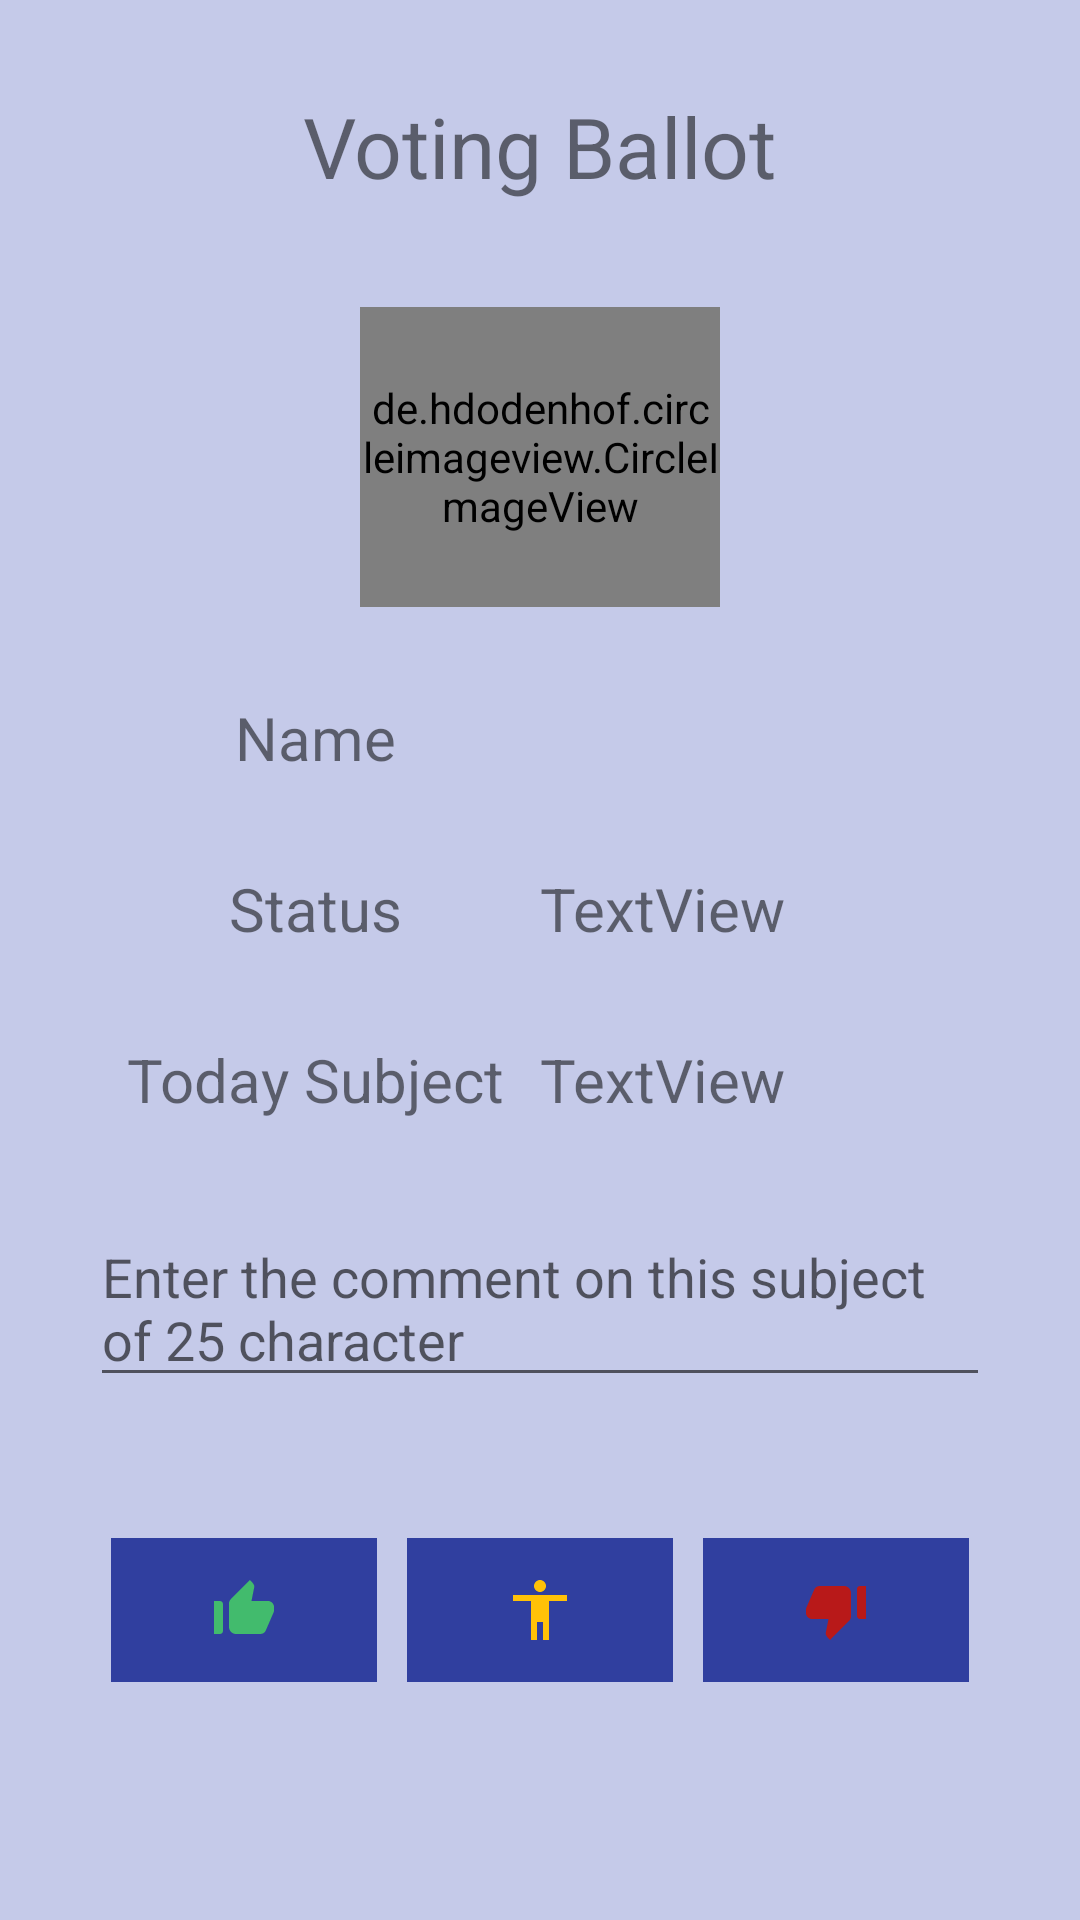

Where to tap for icons on this 1080x1920 app screen, as [x,y]:
dislike: [836,1610]
like: [244,1610]
